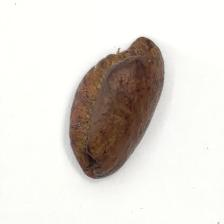NG: (78, 90, 147, 173), (105, 36, 166, 89)
